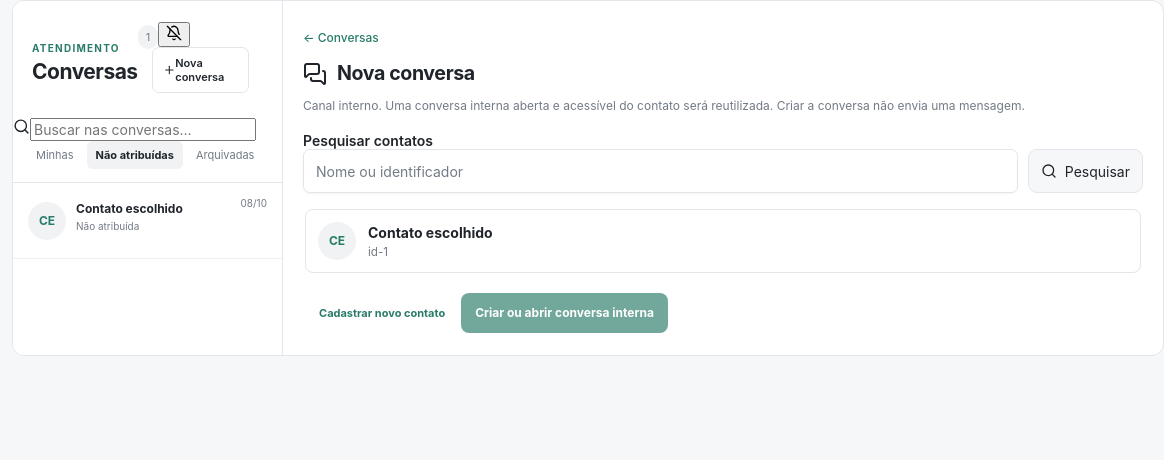
M1 manual internal conversation flow › creates without sending, reconciles P1, shows the inbox row and opens the usable composer
Click the button with aria-label "Selecionar Contato escolhido". click: {"x": 337, "y": 241}
box: [305,209,1141,273]
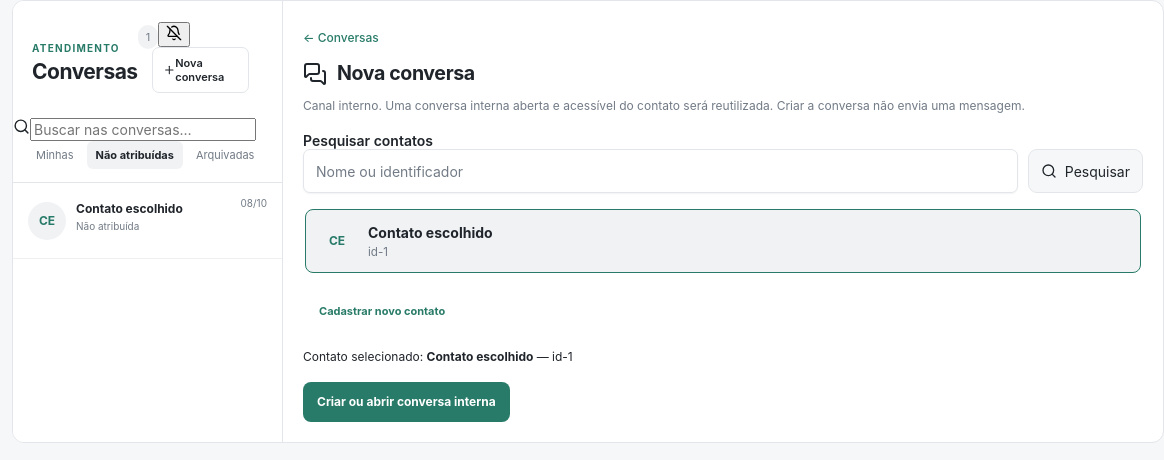
Click the button "Criar ou abrir conversa interna". click: {"x": 406, "y": 402}
box: [303,382,510,422]
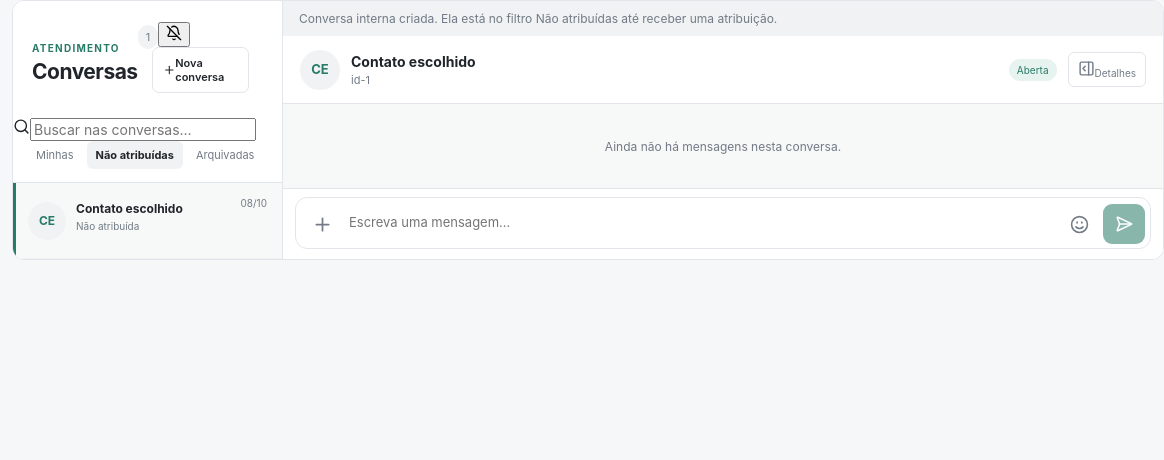
Expected: the heading "Contato escolhido" is shown, [351,52,476,70]
Expected: the text box named "Escrever mensagem" is shown, [346,202,1055,244]
